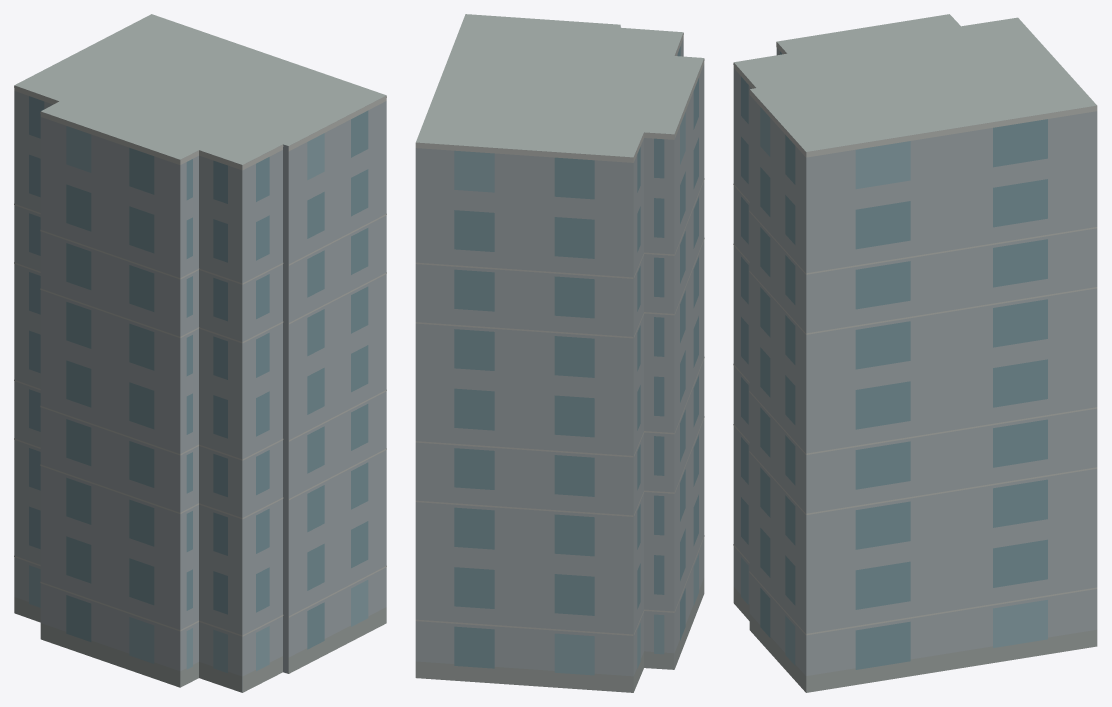
File: survey-upis-32670987.glb
3 renders of one model, left to right at view 1: azimuth 30°, elevation 25°; view 2: azimuth 150°, elevation 25°; view 3: azimuth 270°, elevation 25°, orthographic. The views are drawn at different scales.
Parts seen in each view (by area): view 1: survey-upis-32670987.tmp; view 2: survey-upis-32670987.tmp; view 3: survey-upis-32670987.tmp.
Boxes of the visible parts, left/top/right/bottom form: survey-upis-32670987.tmp: left=14, top=14, right=386, bottom=692; survey-upis-32670987.tmp: left=415, top=14, right=704, bottom=692; survey-upis-32670987.tmp: left=733, top=14, right=1097, bottom=692.
Bounding box in the file's own units: 12.88 × 23.5 × 14.34.
